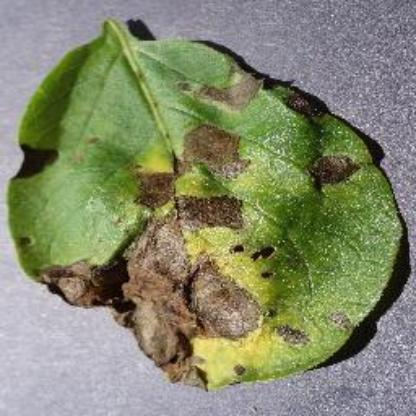Early-Blight: (11, 14, 407, 392)
